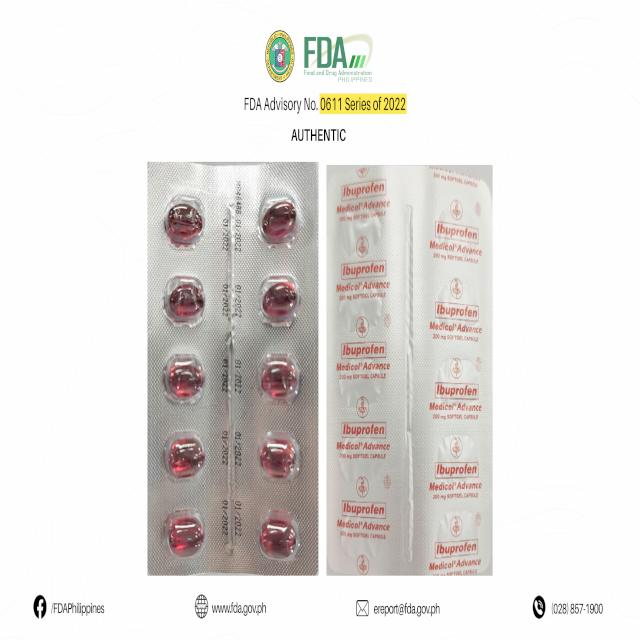authentic: (147, 158, 316, 578), (327, 156, 492, 580)
